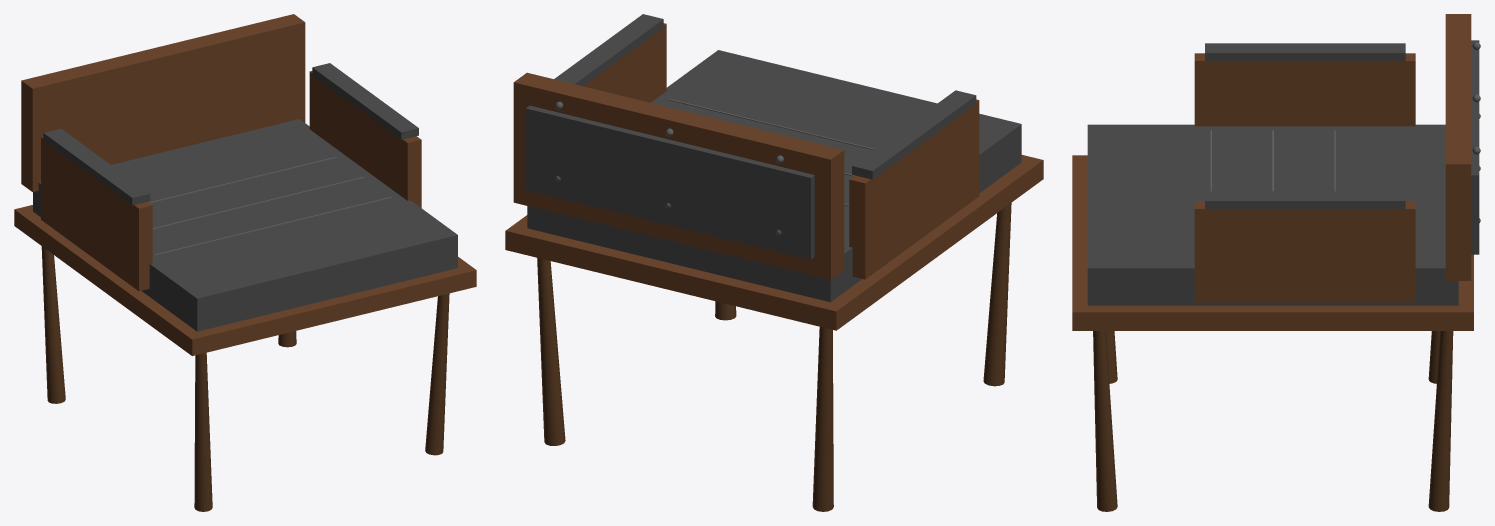
The model's file is modern-chair.glb.
3 views of the same model, side by side, from view 1: azimuth 30°, elevation 25°; view 2: azimuth 150°, elevation 25°; view 3: azimuth 270°, elevation 25° (orthographic). The views are drawn at different scales.
Size of the model in its own units: 0.725 by 0.7608 by 0.793.
